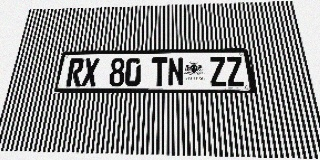0: (124, 58, 141, 87)
8: (108, 58, 126, 87)
N: (168, 57, 184, 87)
R: (66, 58, 85, 87)
T: (151, 57, 167, 87)
X: (81, 58, 99, 87)
Z: (225, 56, 245, 87), (209, 57, 228, 87)
